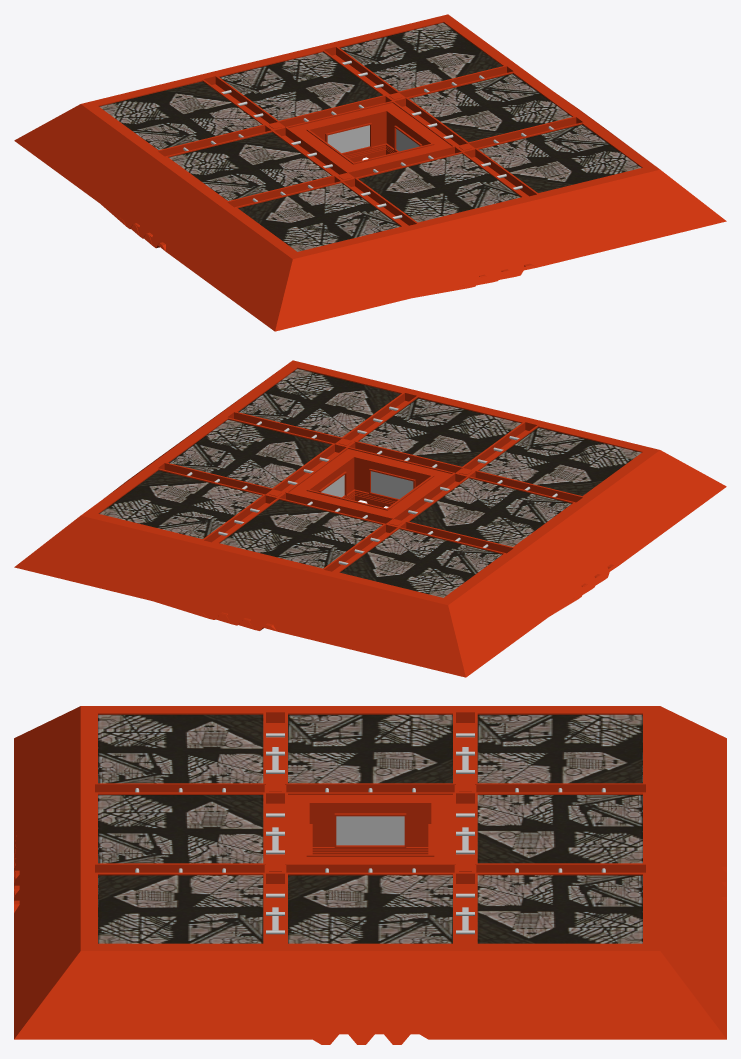
Rendered from WallOne.obj.
3 renders of one model, top to bottom at view 1: azimuth 30°, elevation 25°; view 2: azimuth 150°, elevation 25°; view 3: azimuth 270°, elevation 25°, orthographic. The views are drawn at different scales.
Visible parts, largest first — view 1: Wall_Cube.003, Panels_Cube.001, Lights_Cube.004; view 2: Wall_Cube.003, Panels_Cube.001, Lights_Cube.004; view 3: Wall_Cube.003, Panels_Cube.001, Lights_Cube.004, Light_Cube.002.
Boxes of the visible parts, box(x1,y1,x2,y2) form: Wall_Cube.003: box(14, 14, 726, 331); Panels_Cube.001: box(99, 22, 641, 251); Lights_Cube.004: box(327, 125, 419, 153); Wall_Cube.003: box(14, 360, 726, 677); Panels_Cube.001: box(99, 368, 641, 597); Lights_Cube.004: box(321, 471, 413, 499); Wall_Cube.003: box(14, 706, 726, 1044); Panels_Cube.001: box(98, 714, 642, 943); Lights_Cube.004: box(336, 816, 404, 845); Light_Cube.002: box(272, 747, 468, 930).
Size of the model in its own units: 2.46 by 0.25 by 2.46.
